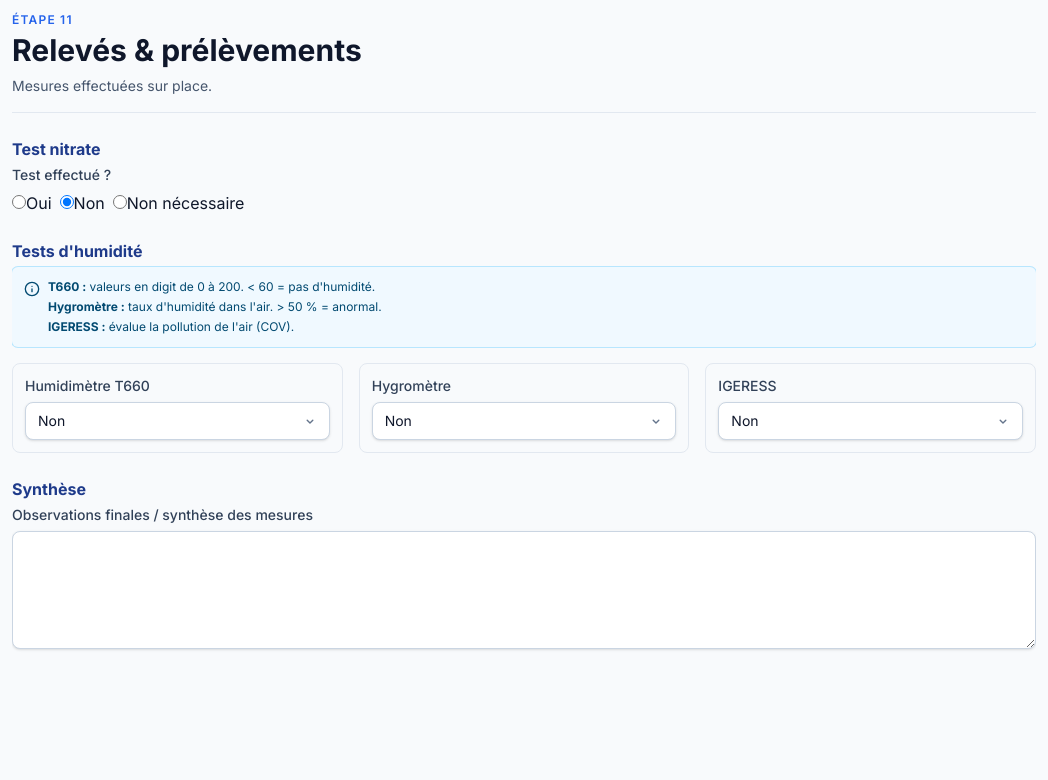
Scenario: Step11Releves › Tests T660 / Hygromètre / IGERESS › affiche la textarea HygroDetails quand testHygro=Oui
This screenshot has width=1048, height=780.
Select "Oui" in the dropdown labelled "Hygromètre" at {"x": 524, "y": 421}, box [372,402,676,440]
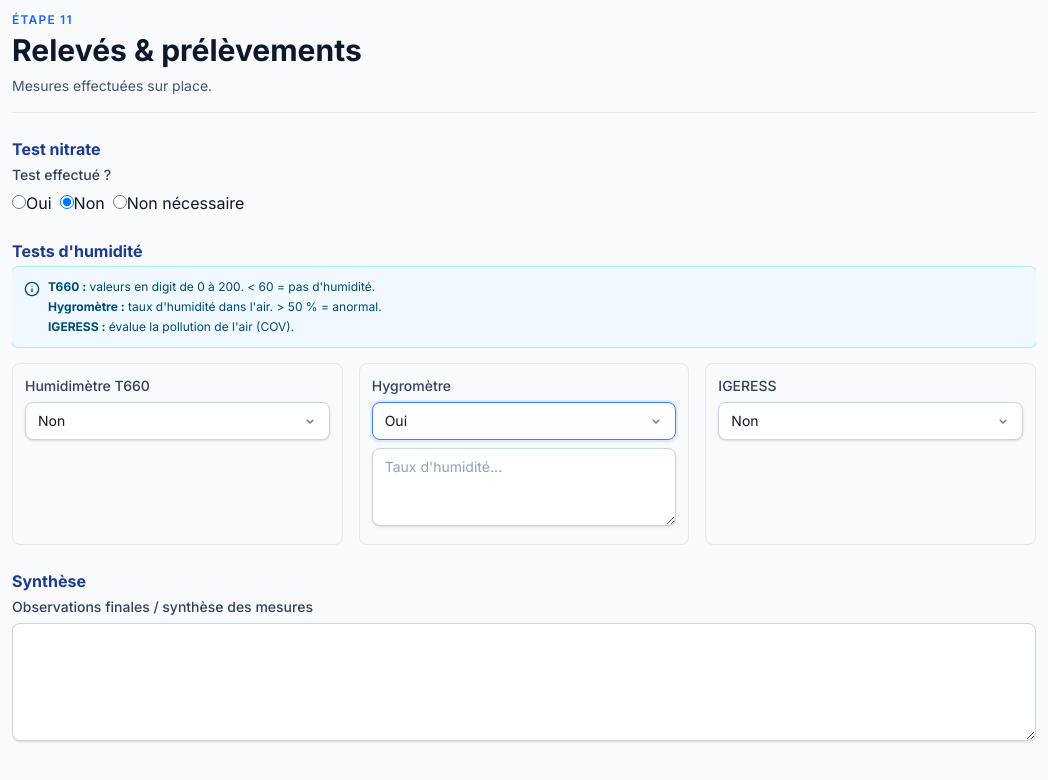
Check: the text box with placeholder "Taux d'humidité…" is shown, box [372,448,676,526]
